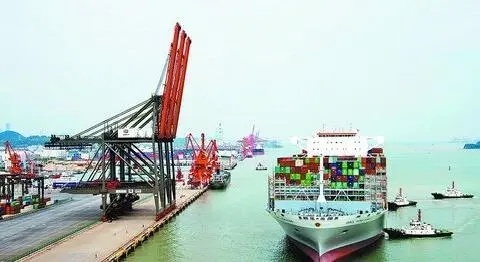Cargoship: (255, 122, 389, 256)
otherboat: (380, 211, 455, 241), (430, 181, 475, 200), (389, 188, 417, 206)
